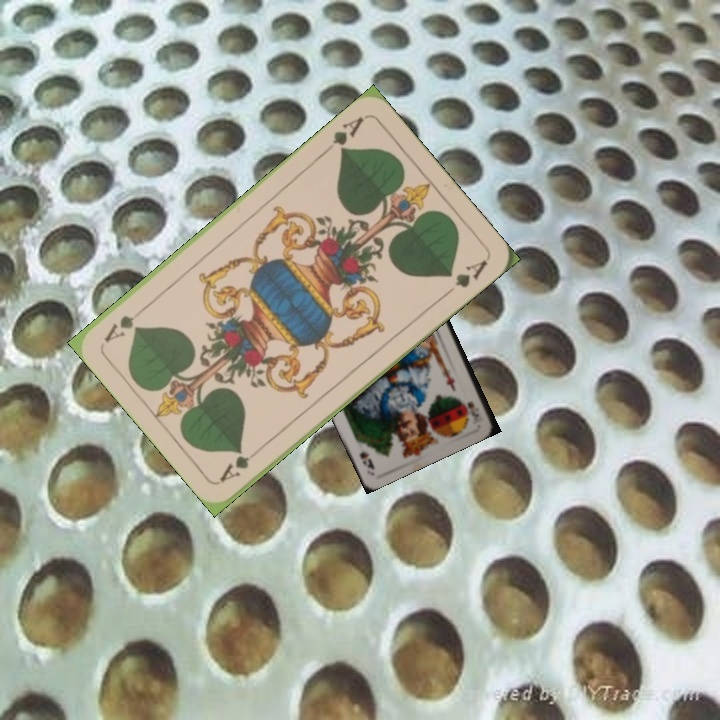GA: (319, 112, 367, 157), (215, 443, 266, 485)
SK: (463, 397, 482, 422)
